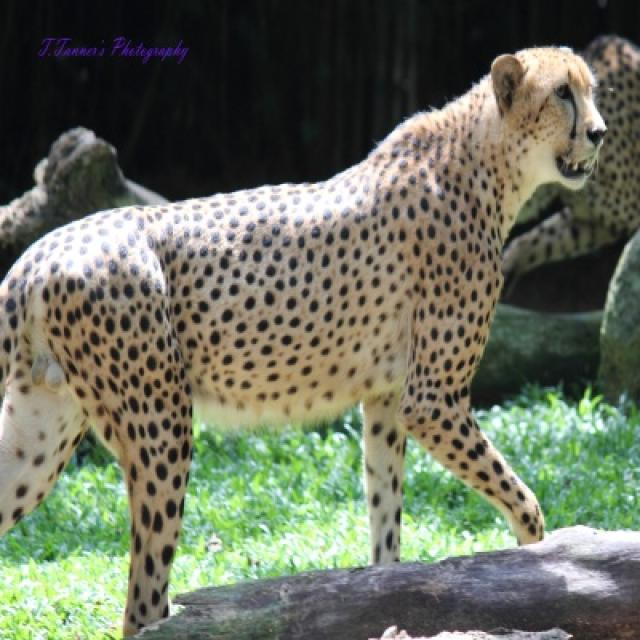Cheetah: (0, 44, 606, 638)
